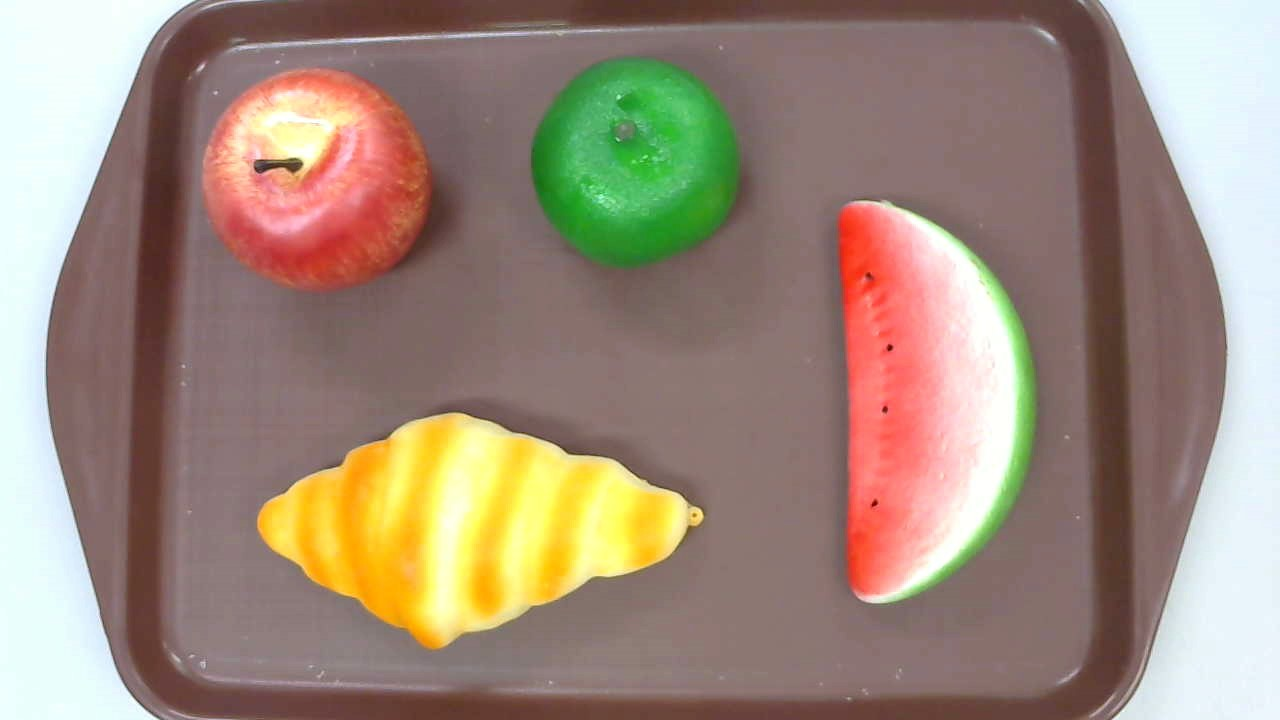croissant: (256, 412, 703, 651)
green orange: (530, 54, 738, 270)
red apple: (200, 66, 430, 292)
water melon: (838, 197, 1037, 602)
